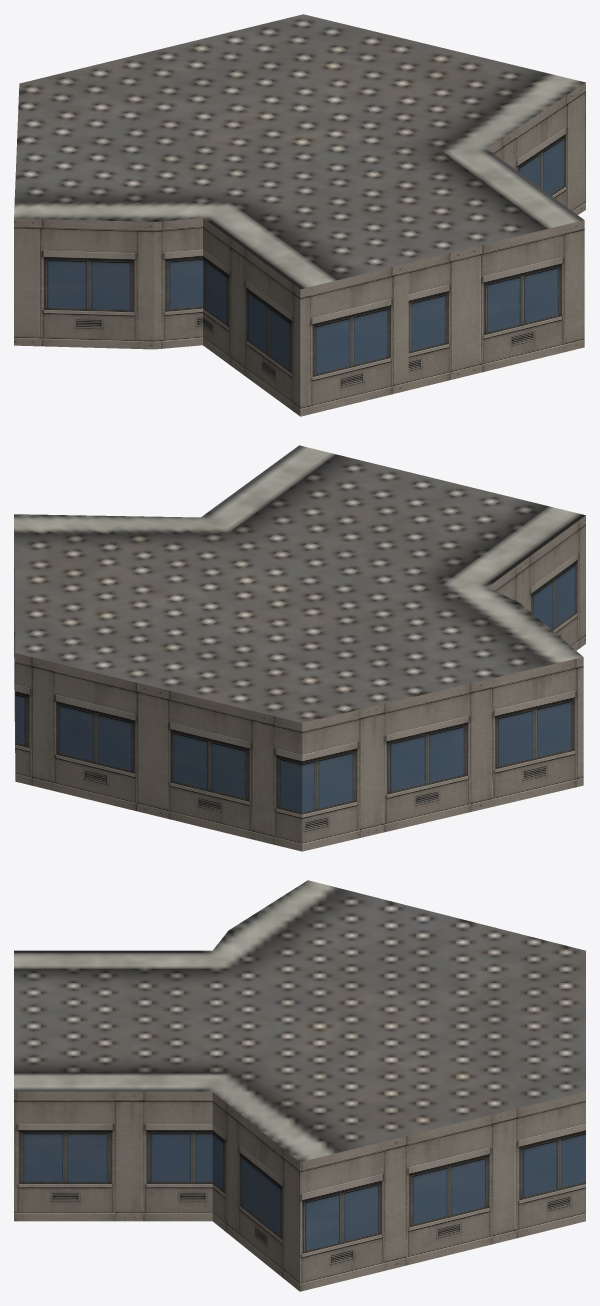
Rendered from building_light_a_43.glb.
3 views of the same model, one above another, from view 1: azimuth 30°, elevation 25°; view 2: azimuth 150°, elevation 25°; view 3: azimuth 270°, elevation 25° (orthographic).
Visible parts, largest first — view 1: buildings/saxarba/building_light/building_light_a_43; view 2: buildings/saxarba/building_light/building_light_a_43; view 3: buildings/saxarba/building_light/building_light_a_43.
Boxes of the visible parts, x1,y1,x2,y2 form: buildings/saxarba/building_light/building_light_a_43: (14,14,585,416); buildings/saxarba/building_light/building_light_a_43: (14,445,585,851); buildings/saxarba/building_light/building_light_a_43: (14,880,585,1291).
Size of the model in its own units: 84 by 18 by 72.
